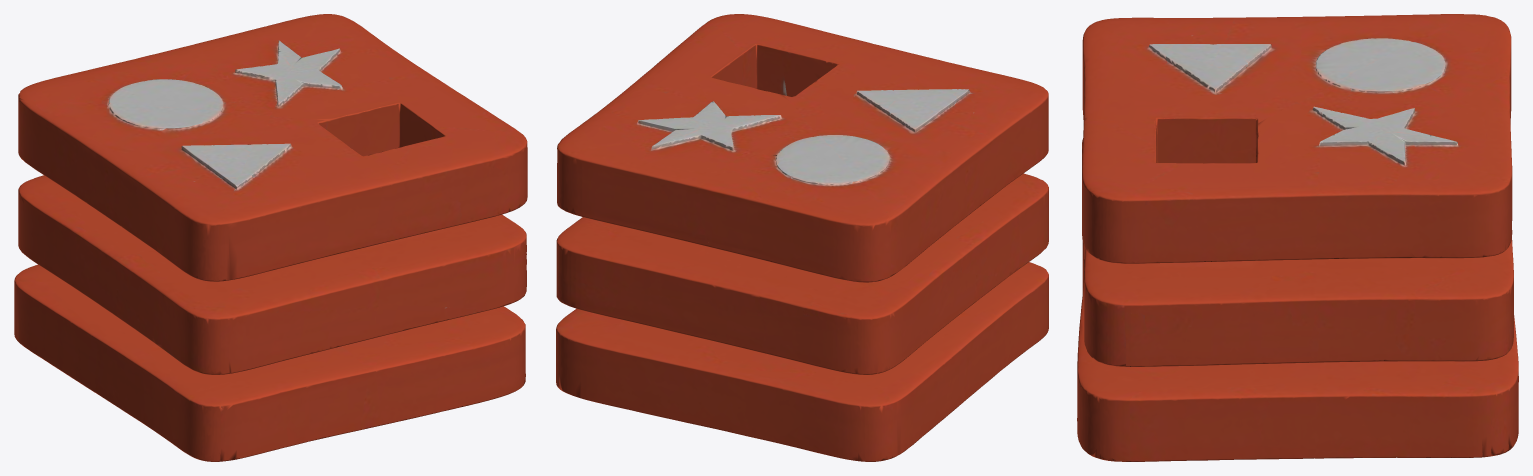
File: redis-3d.glb
The picture shows the model from 3 angles, left to right: view 1: azimuth 30°, elevation 25°; view 2: azimuth 150°, elevation 25°; view 3: azimuth 270°, elevation 25°; orthographic projection. The views are drawn at different scales.
Visible parts, largest first — view 1: tripo_node_de5cb795-2362-4f77-8b3b-9c91d30207f1; view 2: tripo_node_de5cb795-2362-4f77-8b3b-9c91d30207f1; view 3: tripo_node_de5cb795-2362-4f77-8b3b-9c91d30207f1.
Boxes of the visible parts, x1,y1,x2,y2 form: tripo_node_de5cb795-2362-4f77-8b3b-9c91d30207f1: [14, 14, 527, 461]; tripo_node_de5cb795-2362-4f77-8b3b-9c91d30207f1: [556, 14, 1048, 461]; tripo_node_de5cb795-2362-4f77-8b3b-9c91d30207f1: [1077, 14, 1518, 461].
Bounding box in the file's own units: 0.9801 × 0.6708 × 0.9664.
Materials: 1 (1 with a texture image).
